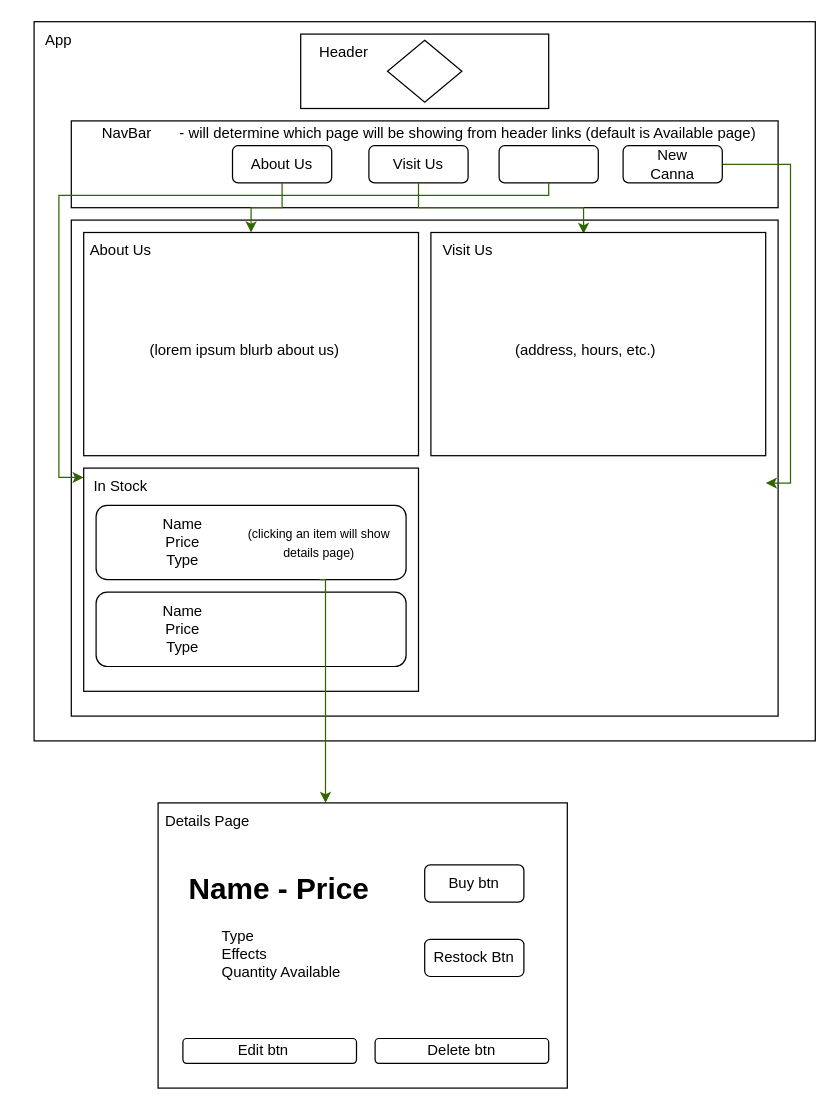
The diagram is 837 pixels wide and 1110 high, and some of its shapes have lost their labels. Here are the shapes that lost their labels. From the top down, the centre of each, then its label:
pixel 424 70: icon
pixel 548 163: Available
